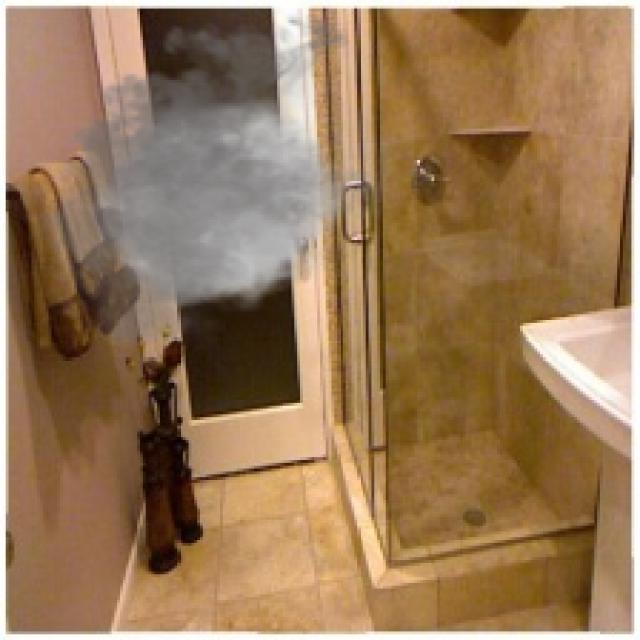Smoke: (19, 3, 414, 360)
